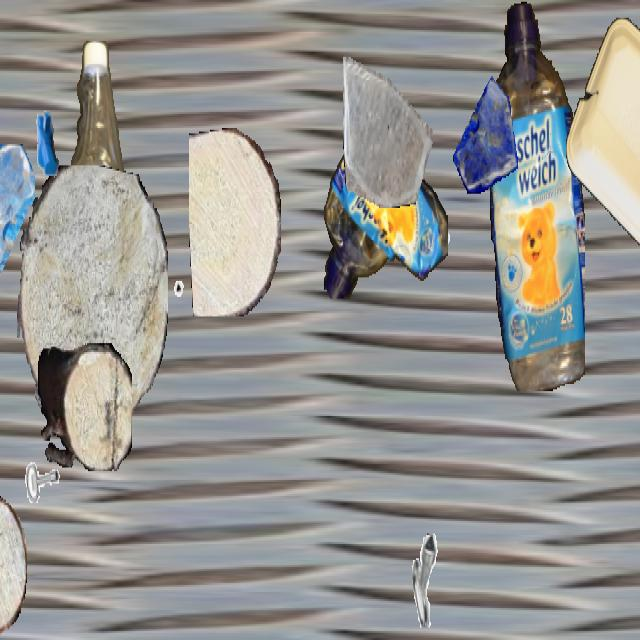glass: (343, 48, 433, 208), (452, 75, 518, 192), (0, 144, 34, 293)
metal: (513, 174, 573, 281), (18, 91, 74, 190), (412, 532, 466, 628), (22, 453, 68, 535), (414, 178, 454, 249), (170, 278, 210, 348), (0, 347, 15, 453)
plastic: (490, 2, 584, 389), (50, 41, 132, 393), (322, 137, 448, 297), (566, 18, 640, 270)
wood: (17, 166, 167, 436), (189, 128, 281, 316), (38, 343, 132, 471), (0, 496, 26, 638)
